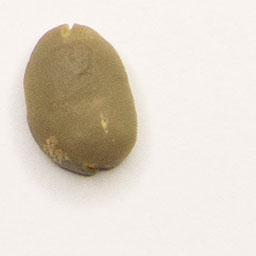premium: (21, 19, 141, 179)
